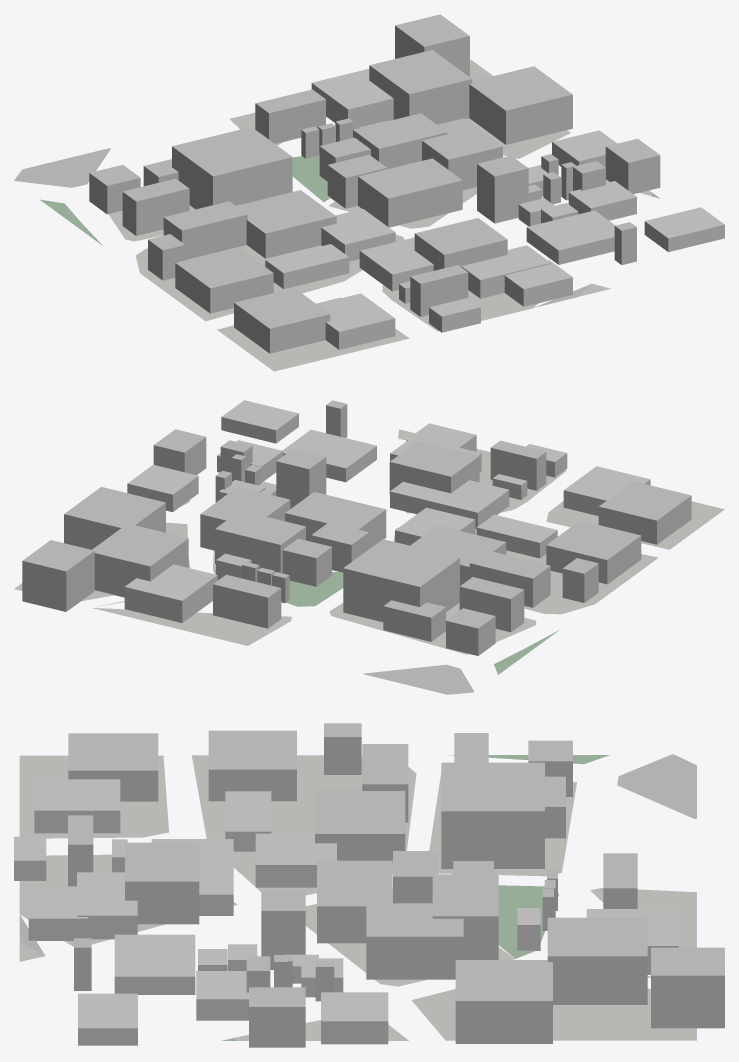
Rendered from 104_105_mid.glb.
The picture shows the model from 3 angles, top to bottom: view 1: azimuth 30°, elevation 25°; view 2: azimuth 150°, elevation 25°; view 3: azimuth 270°, elevation 25°; orthographic projection. The views are drawn at different scales.
Bounding box in the file's own units: 512 × 48.67 × 525.
